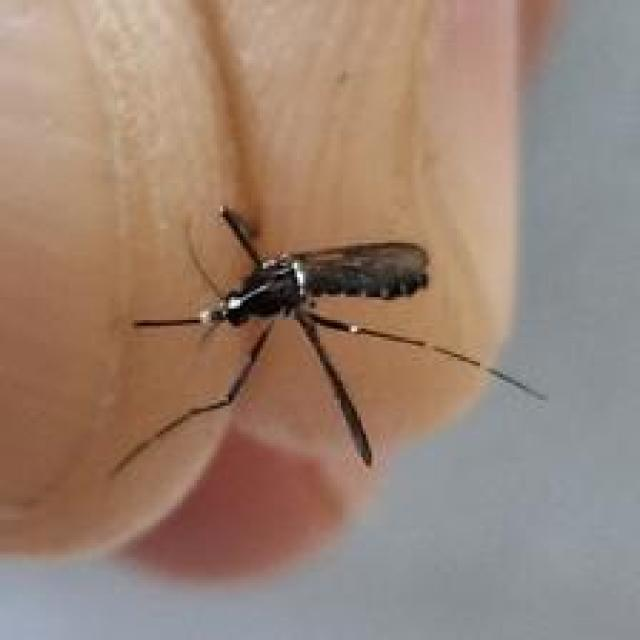Aedes albopictus: (107, 204, 547, 479)
